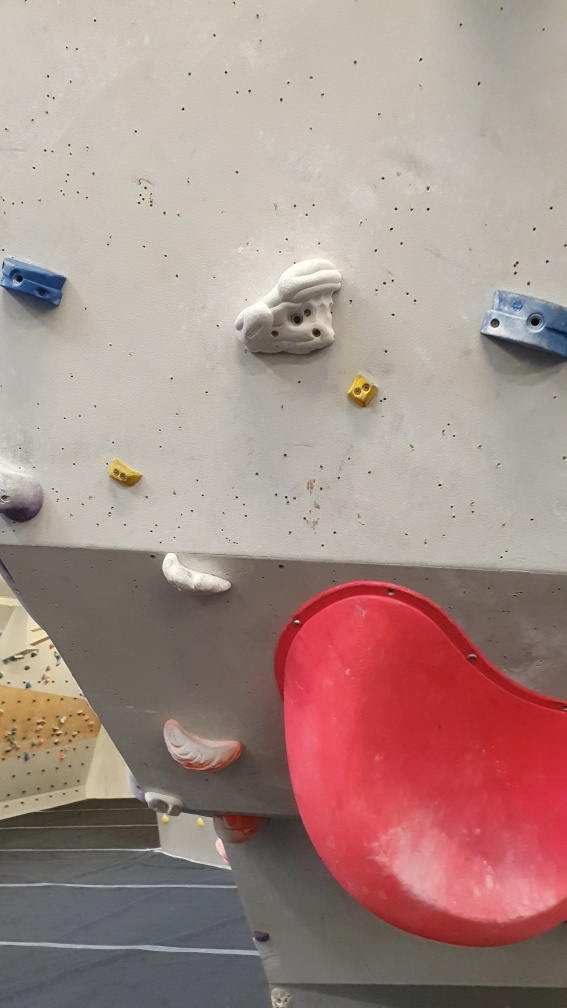Crimp: (99, 452, 146, 491)
Jug: (229, 256, 348, 357), (161, 715, 248, 773), (160, 550, 240, 599)
Pinch: (476, 282, 567, 363), (1, 254, 75, 311), (344, 371, 385, 411)
